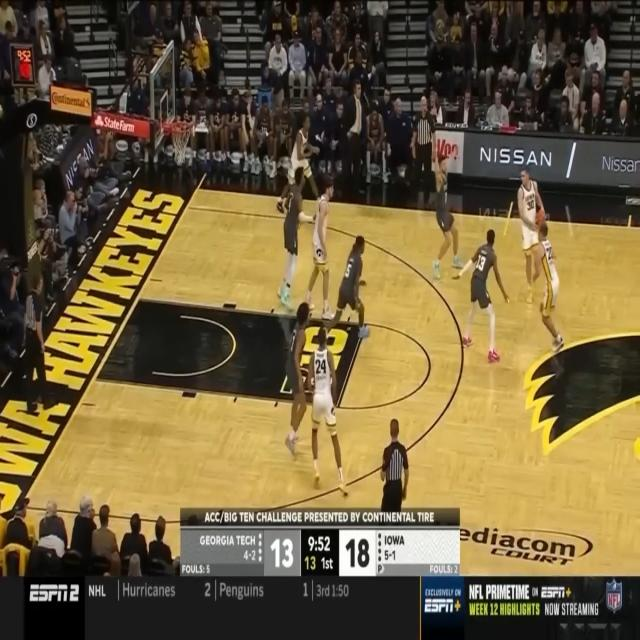Ball: (536, 211, 545, 224)
Hoop: (170, 121, 192, 165)
Period: (321, 556, 334, 570)
Player: (453, 228, 509, 363), (306, 325, 348, 497), (277, 166, 317, 311), (321, 234, 371, 338), (276, 113, 320, 219), (304, 178, 335, 322), (434, 144, 464, 284), (285, 302, 310, 461), (534, 223, 564, 354), (517, 164, 545, 304)
Ref: (23, 271, 58, 413), (410, 95, 436, 211), (380, 418, 409, 508)
Shot Clock: (304, 555, 317, 572)
Team Name: (200, 534, 256, 547), (384, 532, 406, 546)
Team Points: (346, 538, 370, 570), (271, 536, 293, 570)
Time Remaining: (305, 535, 334, 552)
